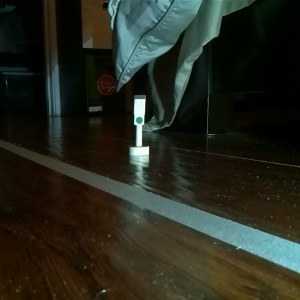traffic light green: (127, 93, 151, 159)
